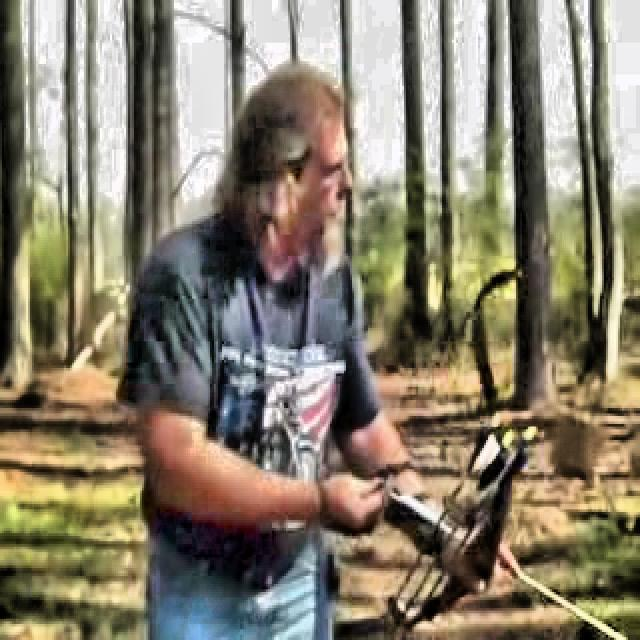I: (109, 67, 513, 635)
